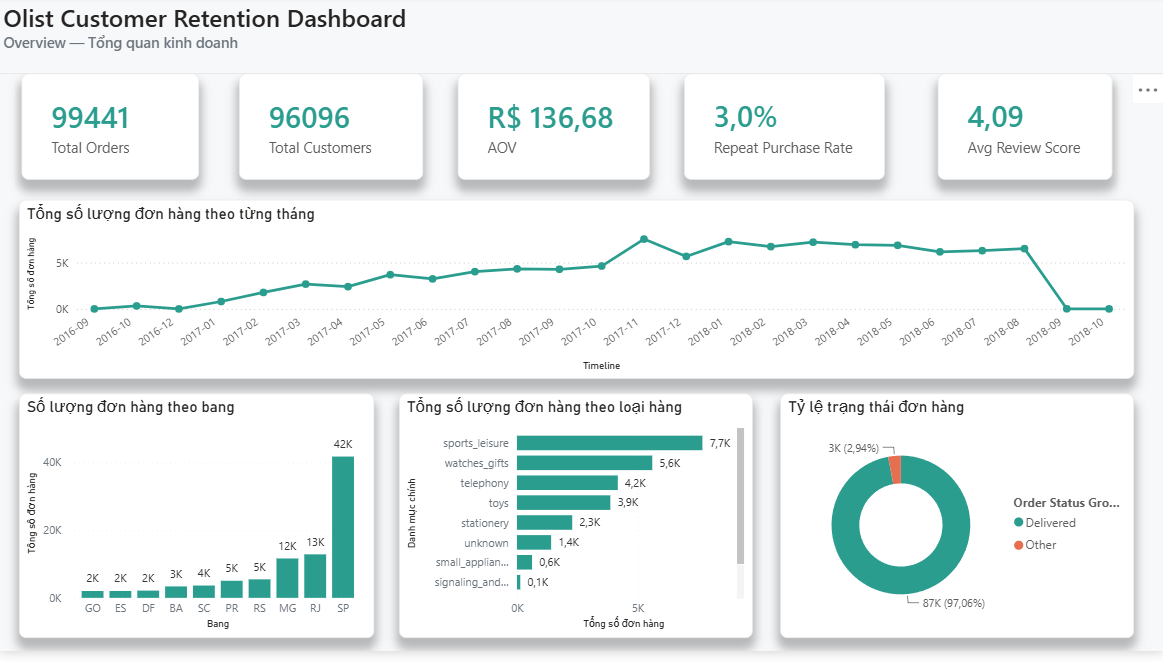

The dashboard page shown, as its layout file describes it:
{"tool":"powerbi","page":{"name":"Overview","canvas":[1280,720],"ordinal":0},"visuals":[{"type":"cardVisual","fields":{"Data":["Measure_Table.Total Orders"]},"box":[24.8,85.7,195.5,117],"z":0},{"type":"cardVisual","fields":{"Data":["Measure_Table.Total Customers"]},"box":[263.1,85.7,202.6,117],"z":1000},{"type":"cardVisual","fields":{"Data":["Measure_Table.AOV"]},"box":[504.3,85.7,211.2,117],"z":2000},{"type":"cardVisual","fields":{"Data":["Measure_Table.Repeat Purchase Rate"]},"box":[752.4,85.3,221.2,116.8],"z":3000},{"type":"cardVisual","fields":{"Data":["Measure_Table.Avg Review Score"]},"box":[1032.3,85.3,192.3,116.8],"z":4000},{"type":"lineChart","title":"Tổng số lượng đơn hàng theo từng tháng","fields":{"Y":["Measure_Table.Total Orders"],"Category":["orders_flat.Order Month"]},"box":[21.4,224.3,1225.7,197.1],"z":5000},{"type":"columnChart","title":"Số lượng đơn hàng theo bang","fields":{"Category":["orders_flat.customer_state"],"Y":["Measure_Table.Total Orders"]},"box":[21.4,437.1,390,268.6],"z":6000},{"type":"clusteredBarChart","title":"Tổng số lượng đơn hàng theo loại hàng","fields":{"Category":["orders_flat.primary_category"],"Y":["Measure_Table.Total Orders"]},"box":[440,437.1,388.6,268.6],"z":7000},{"type":"donutChart","title":"Tỷ lệ trạng thái đơn hàng","fields":{"Y":["Measure_Table.Total Orders"],"Category":["orders_flat.Order Status Grouped"]},"box":[858.6,437.1,388.6,268.6],"z":8000},{"type":"textbox","box":[0,0,1280,85.7],"z":9000}]}

Visuals, with their boxes in screenshot pixels (x1, y1, x2, y2), scaled from the page's 1280x720 canvas onto the 1163x662 screenshot:
cardVisual - Measure_Table.Total Orders: Rect(23, 79, 200, 186)
cardVisual - Measure_Table.Total Customers: Rect(239, 79, 423, 186)
cardVisual - Measure_Table.AOV: Rect(458, 79, 650, 186)
cardVisual - Measure_Table.Repeat Purchase Rate: Rect(684, 78, 885, 186)
cardVisual - Measure_Table.Avg Review Score: Rect(938, 78, 1113, 186)
"Tổng số lượng đơn hàng theo từng tháng" lineChart: Rect(19, 206, 1133, 387)
"Số lượng đơn hàng theo bang" columnChart: Rect(19, 402, 374, 649)
"Tổng số lượng đơn hàng theo loại hàng" clusteredBarChart: Rect(400, 402, 753, 649)
"Tỷ lệ trạng thái đơn hàng" donutChart: Rect(780, 402, 1133, 649)
textbox: Rect(0, 0, 1162, 79)
